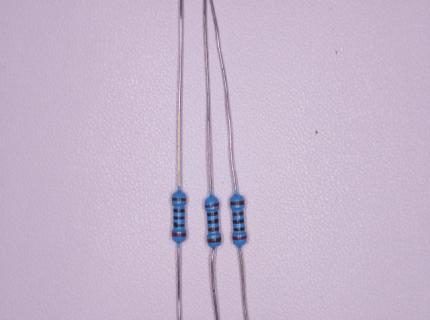Black band: (233, 219, 245, 224), (174, 222, 185, 227), (207, 211, 218, 216), (207, 219, 218, 224), (234, 227, 245, 231), (174, 209, 184, 212), (174, 216, 184, 219)
Brown band: (208, 237, 221, 243), (230, 200, 244, 205), (172, 197, 186, 201), (232, 211, 243, 216), (208, 227, 219, 231)
Red band: (205, 202, 219, 208), (232, 235, 247, 240), (172, 232, 186, 237)
